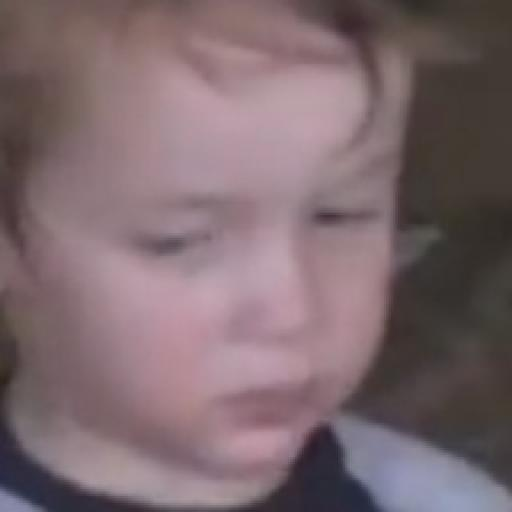Autism: (16, 38, 480, 512)
